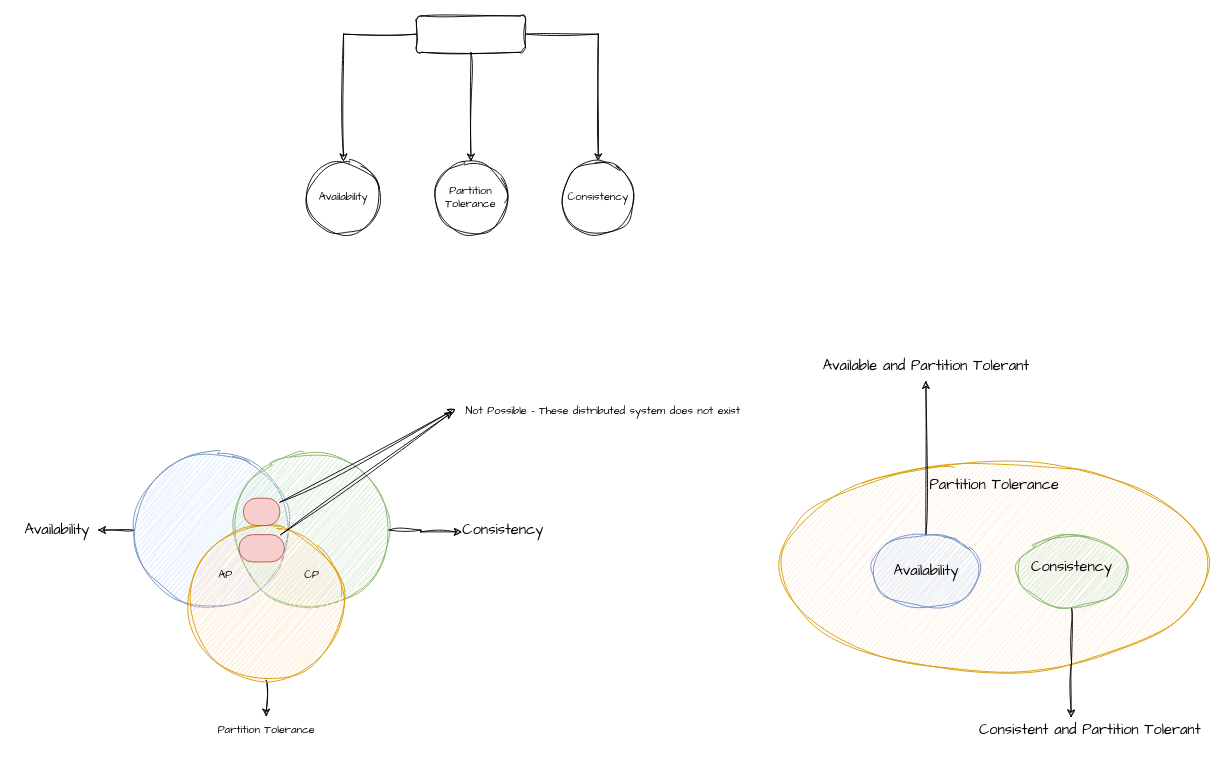
Image size: 1228x760. Some labels were removed from this diagram. Here are the shapes that lost their labels. From the top down, the box of each, then its label:
(415, 15, 526, 52): CAP Theorem
(243, 497, 280, 526): AC
(238, 534, 284, 562): ACP
